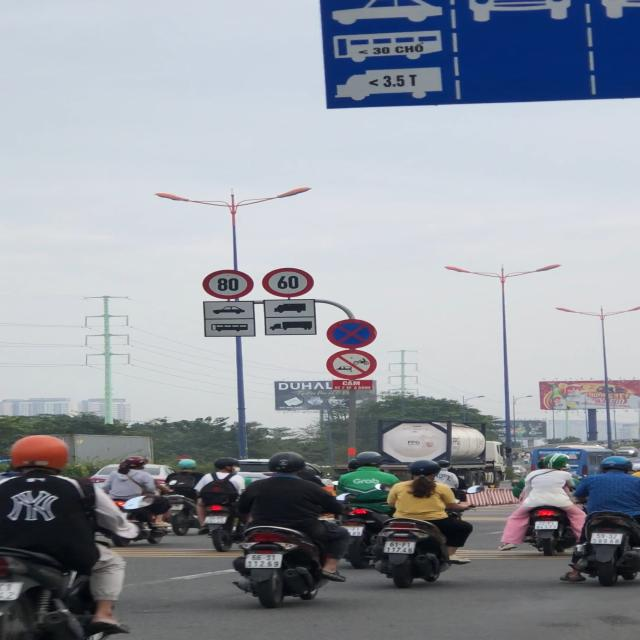Bien bao cam dung xe va do xe: (325, 319, 378, 350)
Bien bao toc do toi da cho phep: (260, 266, 317, 299), (200, 269, 253, 301)
